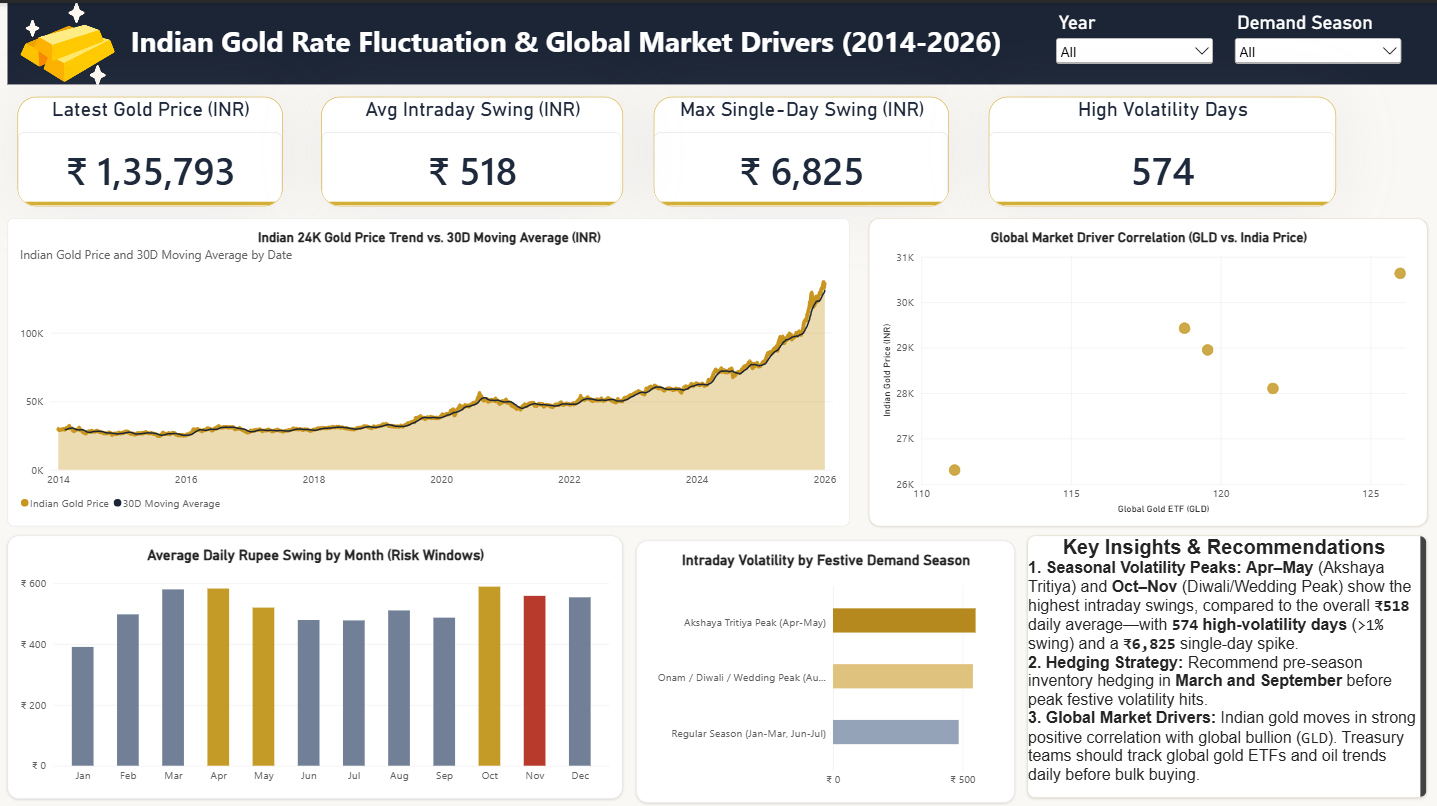

Layout of this report page (visuals, bound fields, positions):
{"tool":"powerbi","page":{"name":"Page 1","canvas":[1920,1080],"ordinal":0},"visuals":[{"type":"shape","box":[10.3,0,1910.1,109.1],"z":0},{"type":"image","box":[10.2,0,160.4,109.6],"z":1000},{"type":"textbox","box":[170.9,24.4,1172.1,69.8],"z":2000},{"type":"slicer","fields":{"Values":["Dim_Calendar.Year"]},"box":[1405.8,12.2,219.8,85.5],"z":3000},{"type":"slicer","fields":{"Values":["Dim_Calendar.Demand_Season"]},"box":[1644.8,12.2,232,85.5],"z":4000},{"type":"cardVisual","title":"Latest Gold Price (INR)","fields":{"Data":["Dim_Calendar.Latest Gold Price (INR)"]},"box":[22.7,125.6,354.1,146.5],"z":5000},{"type":"cardVisual","title":"Max Single-Day Swing (INR)","fields":{"Data":["Dim_Calendar.Max Single-Day Swing (INR)"]},"box":[873.8,125.6,394.2,146.5],"z":6000},{"type":"cardVisual","title":"Avg Intraday Swing (INR)","fields":{"Data":["Dim_Calendar.Avg Intraday Swing (INR)"]},"box":[429.1,125.6,402.9,146.5],"z":7000},{"type":"cardVisual","title":"High Volatility Days","fields":{"Data":["Dim_Calendar.High Volatility Days"]},"box":[1320.4,125.6,464,146.5],"z":8000},{"type":"lineChart","title":"Indian 24K Gold Price Trend vs. 30D Moving Average (INR)","fields":{"Category":["Dim_Calendar.Date"],"Y":["Sum(Fact_India_Gold.Price)","Sum(Fact_India_Gold.Moving_Avg_30D)"]},"box":[10.5,287.8,1125,411.6],"z":8001},{"type":"scatterChart","title":"Global Market Driver Correlation (GLD vs. India Price)","fields":{"Category":["Dim_Calendar.Date.Variation.Date Hierarchy.Year","Dim_Calendar.Date.Variation.Date Hierarchy.Quarter","Dim_Calendar.Date.Variation.Date Hierarchy.Month","Dim_Calendar.Date.Variation.Date Hierarchy.Day","Dim_Calendar.Month_Name"],"X":["Avg(Dim_Global_Indicators.GLD)"],"Y":["Avg(Fact_India_Gold.Price)"]},"box":[1159.9,287.8,746.5,411.6],"z":8002},{"type":"clusteredColumnChart","title":"Average Daily Rupee Swing by Month (Risk Windows)","fields":{"Category":["Dim_Calendar.Month_Name"],"Y":["Dim_Calendar.Avg Intraday Swing (INR)"]},"box":[10.5,711.6,821.5,352.3],"z":8003},{"type":"clusteredBarChart","title":"Intraday Volatility by Festive Demand Season","fields":{"Category":["Dim_Calendar.Demand_Season"],"Y":["Dim_Calendar.Avg Intraday Swing (INR)"]},"box":[849.4,718.6,505.8,350.6],"z":8004},{"type":"textbox","box":[1372.5,711.3,547.7,357.3],"z":8005}]}

Visuals, with their boxes in screenshot pixels (x1, y1, x2, y2), scaled from the page's 1920x1080 canvas onto the 1437x806 screenshot:
shape: bbox=(8, 0, 1436, 81)
image: bbox=(8, 0, 128, 82)
textbox: bbox=(128, 18, 1005, 70)
slicer - Dim_Calendar.Year: bbox=(1052, 9, 1217, 73)
slicer - Dim_Calendar.Demand_Season: bbox=(1231, 9, 1405, 73)
"Latest Gold Price (INR)" cardVisual: bbox=(17, 94, 282, 203)
"Max Single-Day Swing (INR)" cardVisual: bbox=(654, 94, 949, 203)
"Avg Intraday Swing (INR)" cardVisual: bbox=(321, 94, 623, 203)
"High Volatility Days" cardVisual: bbox=(988, 94, 1336, 203)
"Indian 24K Gold Price Trend vs. 30D Moving Average (INR)" lineChart: bbox=(8, 215, 850, 522)
"Global Market Driver Correlation (GLD vs. India Price)" scatterChart: bbox=(868, 215, 1427, 522)
"Average Daily Rupee Swing by Month (Risk Windows)" clusteredColumnChart: bbox=(8, 531, 623, 794)
"Intraday Volatility by Festive Demand Season" clusteredBarChart: bbox=(636, 536, 1014, 798)
textbox: bbox=(1027, 531, 1436, 797)
